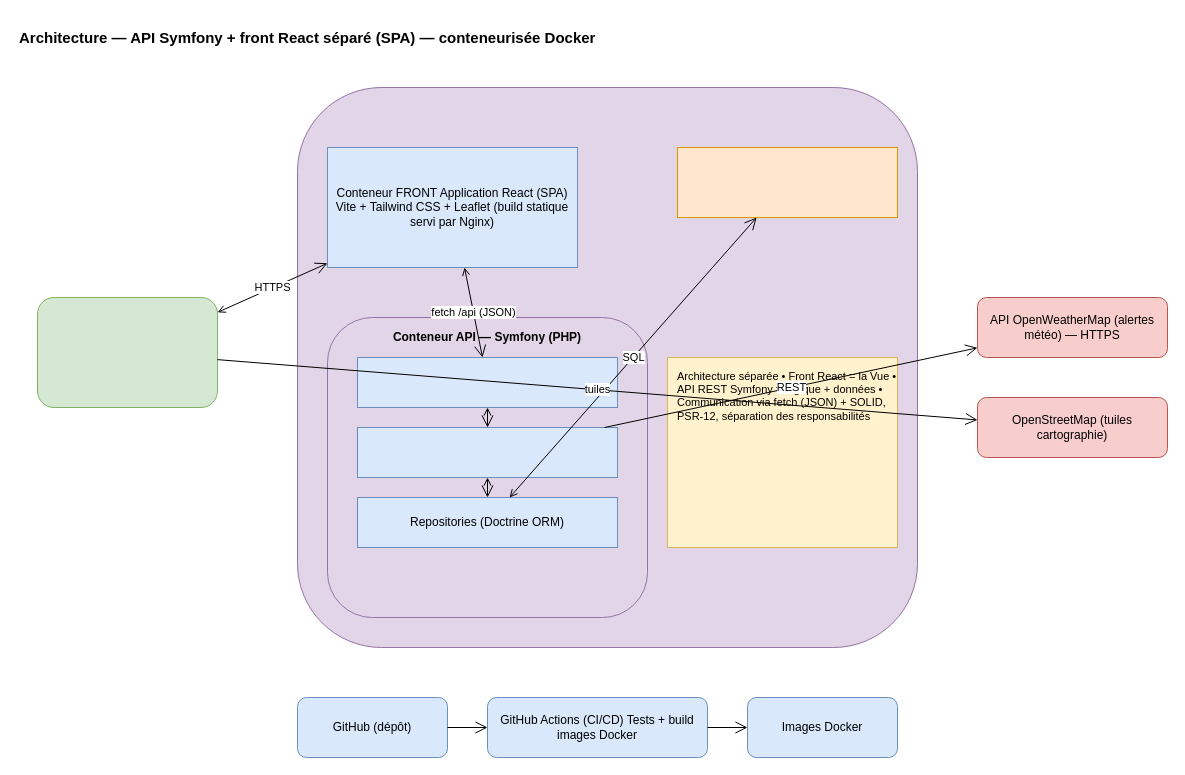
Some shapes in this 1185 by 775 pixel diagram are drawn without their labels. Each missing label, with the box of its shape:
Conteneur MySQL 8 (base de données): (676, 146, 898, 218)
Controllers API (routes /api, format JSON): (356, 356, 618, 408)
Hôte Docker (docker-compose): (296, 86, 918, 648)
Navigateur (desktop + mobile) responsive: (36, 296, 218, 408)
Services (logique métier): (356, 426, 618, 478)
